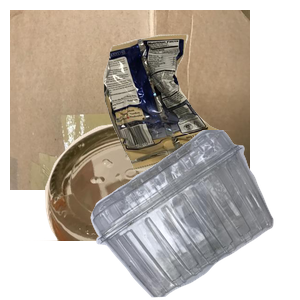cardboard: (10, 10, 250, 190)
glass: (22, 120, 233, 300)
plastic: (88, 130, 300, 300)
trash: (101, 32, 300, 195)
